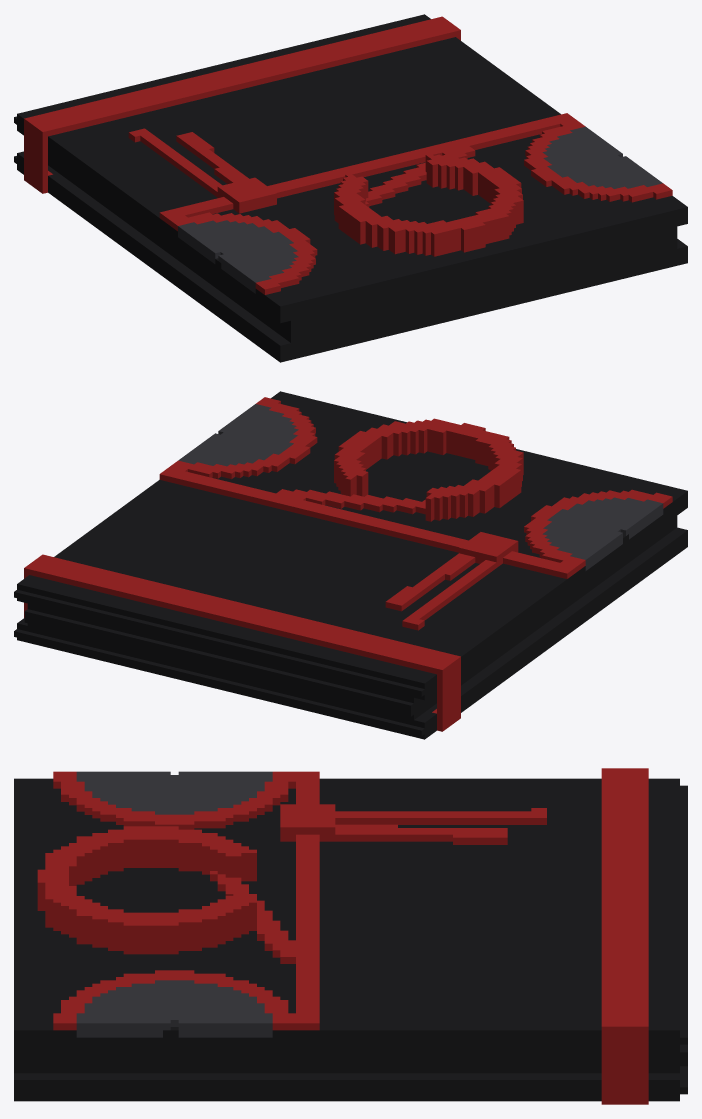
The model's file is ninja_dress_sleeveless.glb.
3 renders of one model, top to bottom at view 1: azimuth 30°, elevation 25°; view 2: azimuth 150°, elevation 25°; view 3: azimuth 270°, elevation 25°, orthographic. The views are drawn at different scales.
Parts seen in each view (by area): view 1: ninja_dress_sleeveless:compound; view 2: ninja_dress_sleeveless:compound; view 3: ninja_dress_sleeveless:compound.
Boxes of the visible parts, x1,y1,x2,y2 form: ninja_dress_sleeveless:compound: (14, 14, 687, 362); ninja_dress_sleeveless:compound: (14, 391, 687, 739); ninja_dress_sleeveless:compound: (14, 768, 687, 1104).
Size of the model in its own units: 0.312 by 0.056 by 0.344.
